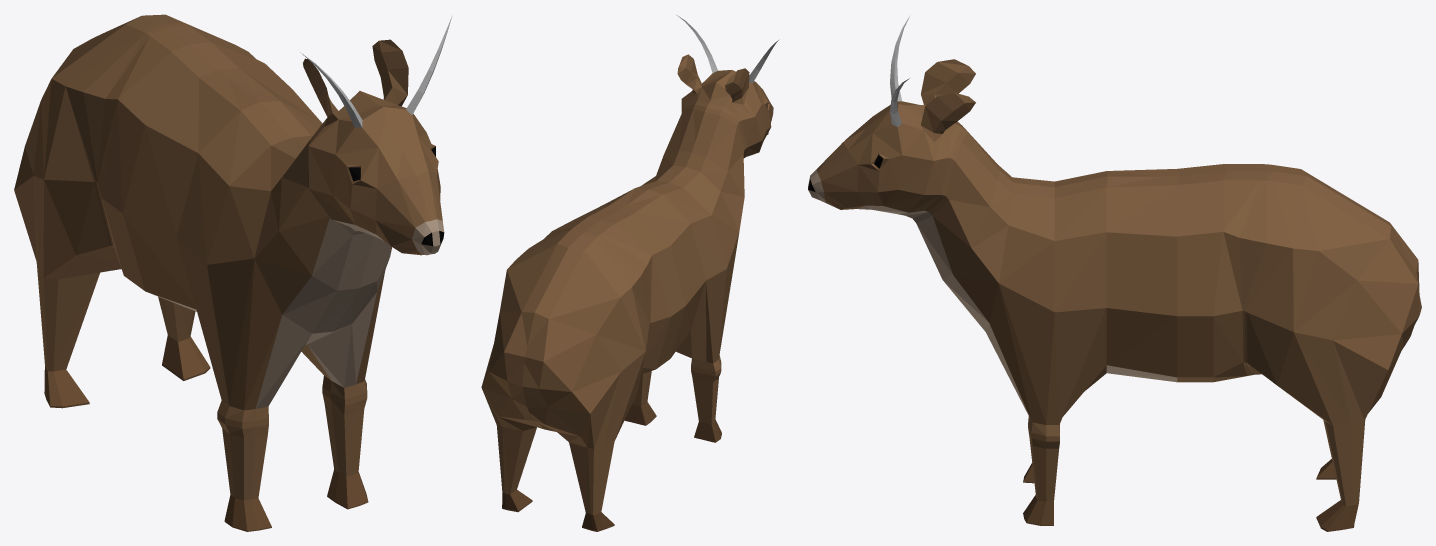
The model's file is Pudu.glb.
3 views of the same model, side by side, from view 1: azimuth 30°, elevation 25°; view 2: azimuth 150°, elevation 25°; view 3: azimuth 270°, elevation 25° (orthographic). The views are drawn at different scales.
Visible parts, largest first — view 1: Cylinder001_Material #42_0, Cylinder001_Material #41_0, Cylinder001_Material #43_0, Cylinder001_Material #40_0; view 2: Cylinder001_Material #42_0, Cylinder001_Material #43_0, Cylinder001_Material #40_0; view 3: Cylinder001_Material #42_0, Cylinder001_Material #41_0, Cylinder001_Material #43_0, Cylinder001_Material #40_0.
Part boxes in pixels (x1,y1,x2,y2): Cylinder001_Material #42_0: (14,14,442,500); Cylinder001_Material #41_0: (150,218,444,408); Cylinder001_Material #43_0: (44,335,368,531); Cylinder001_Material #40_0: (300,15,452,127); Cylinder001_Material #42_0: (481,54,772,514); Cylinder001_Material #43_0: (502,402,721,531); Cylinder001_Material #40_0: (677,15,779,83); Cylinder001_Material #42_0: (817,59,1421,506); Cylinder001_Material #41_0: (808,168,1177,415); Cylinder001_Material #43_0: (1023,459,1358,531); Cylinder001_Material #40_0: (890,16,909,127).
Size of the model in its own units: 33.91 by 81.84 by 100.
Materials: 5 (5 with a texture image).
